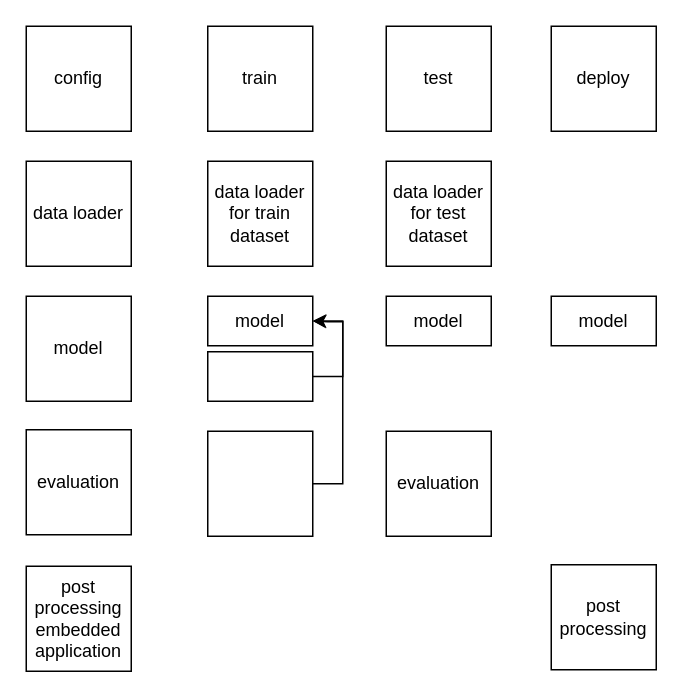
The diagram is 683 pixels wide and 698 high, and some of its shapes have lost their labels. Each missing label, with the box of its shape:
evaluation for epoch: (206, 430, 313, 536)
loss: (206, 350, 313, 401)
